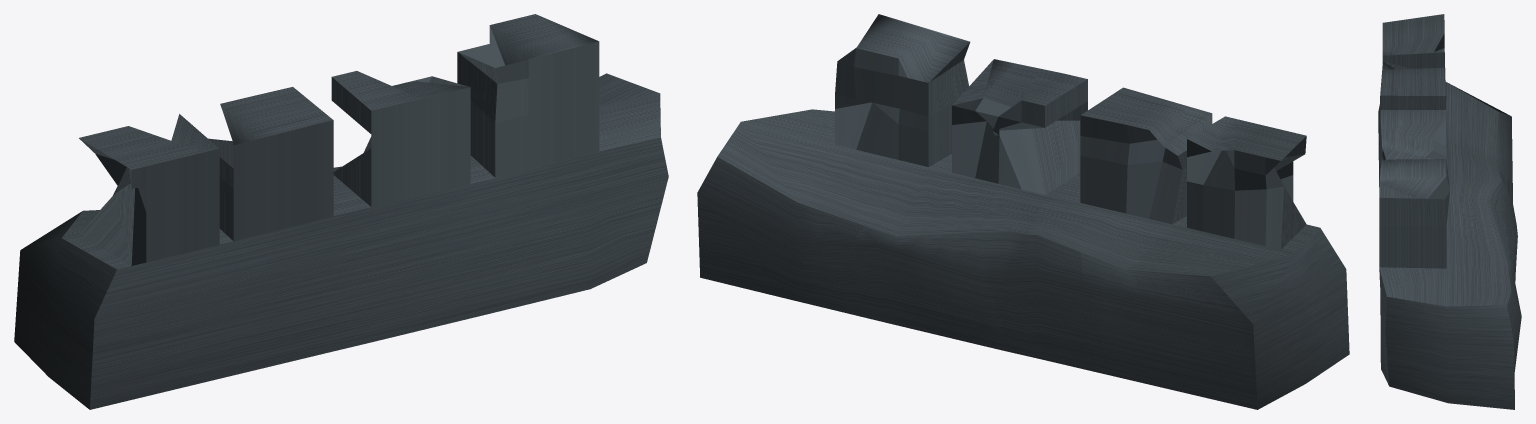
Rendered from jewerlyrockdisplayed.fbx.
3 renders of one model, left to right at view 1: azimuth 30°, elevation 25°; view 2: azimuth 150°, elevation 25°; view 3: azimuth 270°, elevation 25°, orthographic. The views are drawn at different scales.
Visible parts, largest first — view 1: jewelrystonestand; view 2: jewelrystonestand; view 3: jewelrystonestand.
Boxes of the visible parts, x1=… form: jewelrystonestand: x1=14, y1=14, x2=668, y2=409; jewelrystonestand: x1=697, y1=14, x2=1349, y2=409; jewelrystonestand: x1=1378, y1=14, x2=1521, y2=409.
Bounding box in the file's own units: 4.82 × 1.84 × 1.27.
